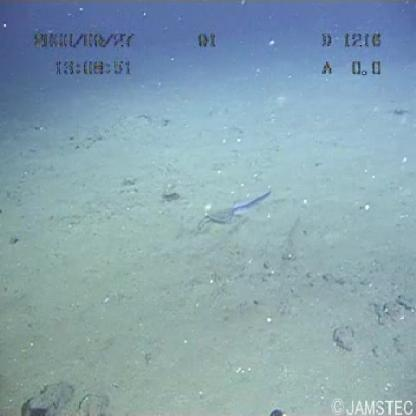Bio: (197, 183, 277, 240)
